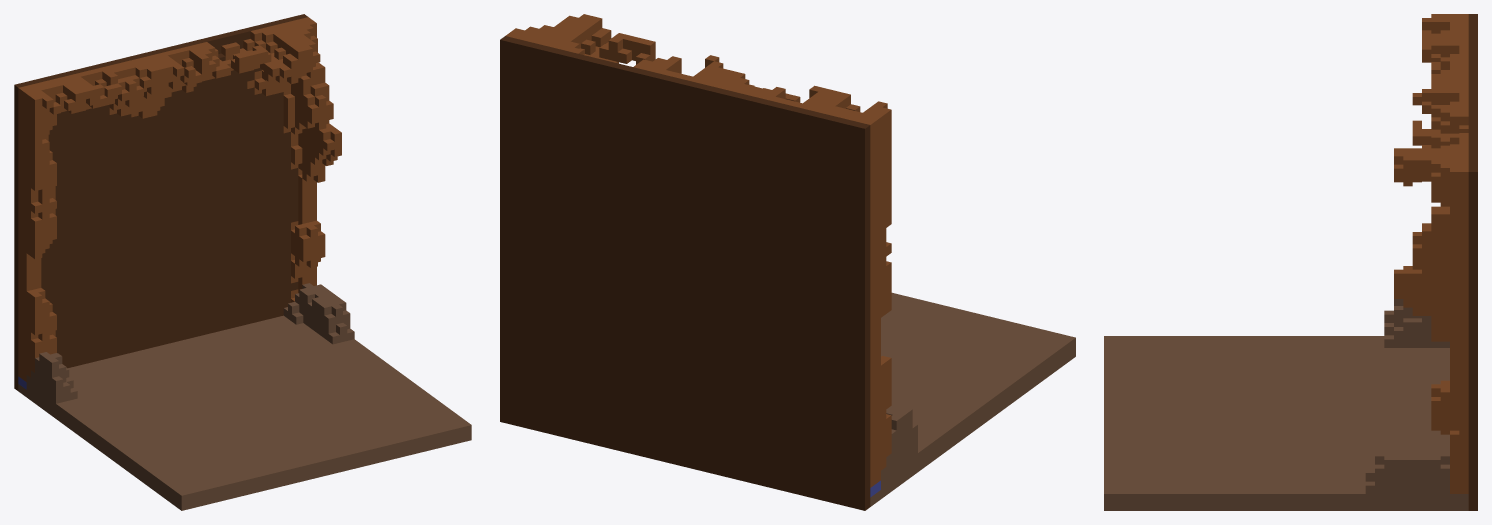
The model's file is LevelAssets-1.obj.
3 views of the same model, side by side, from view 1: azimuth 30°, elevation 25°; view 2: azimuth 150°, elevation 25°; view 3: azimuth 270°, elevation 25° (orthographic). The views are drawn at different scales.
Size of the model in its own units: 4 by 4 by 4.
1 material, 1 textured.
